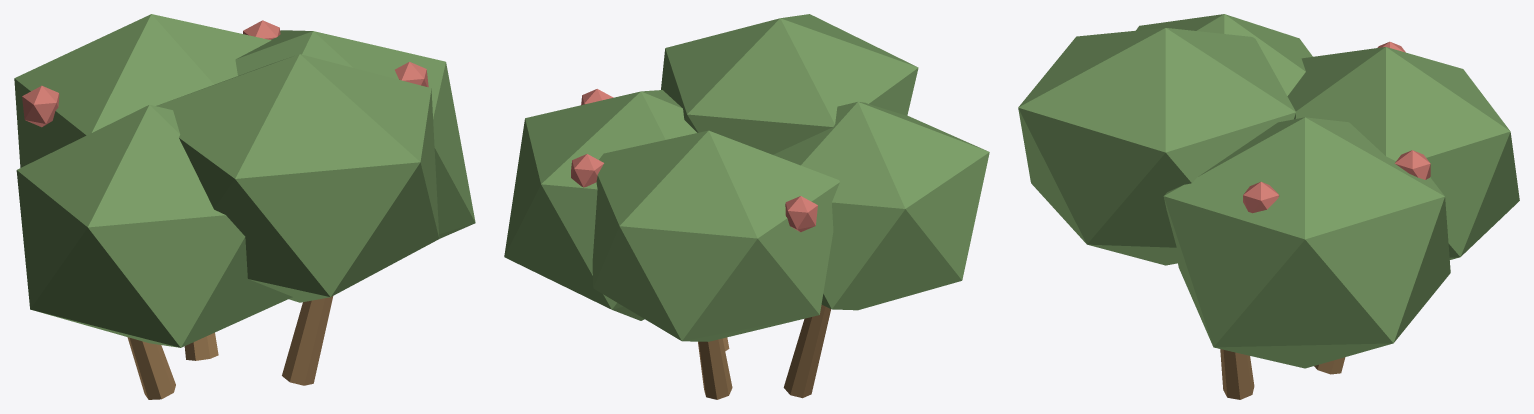
File: arbusto.glb
3 views of the same model, side by side, from view 1: azimuth 30°, elevation 25°; view 2: azimuth 150°, elevation 25°; view 3: azimuth 270°, elevation 25° (orthographic). The views are drawn at different scales.
Parts seen in each view (by area): view 1: deserto_arbusto; view 2: deserto_arbusto; view 3: deserto_arbusto.
Part boxes in pixels (bbox=[...]): deserto_arbusto: bbox=[14, 14, 475, 399]; deserto_arbusto: bbox=[504, 14, 989, 399]; deserto_arbusto: bbox=[1018, 14, 1519, 399].
Size of the model in its own units: 0.6892 by 0.5252 by 0.6839.
